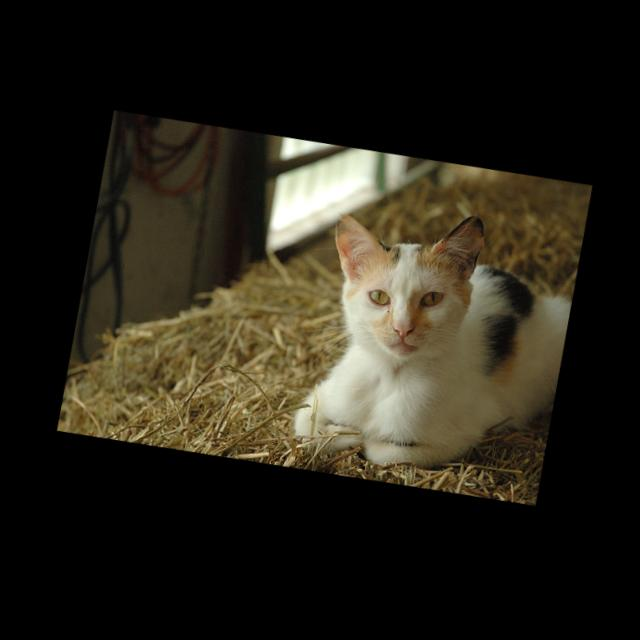animals: (321, 194, 482, 351)
